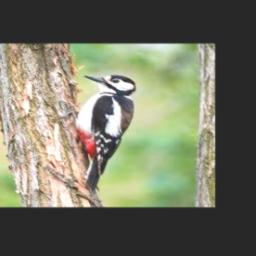Woodpecker: (75, 76, 136, 192)
